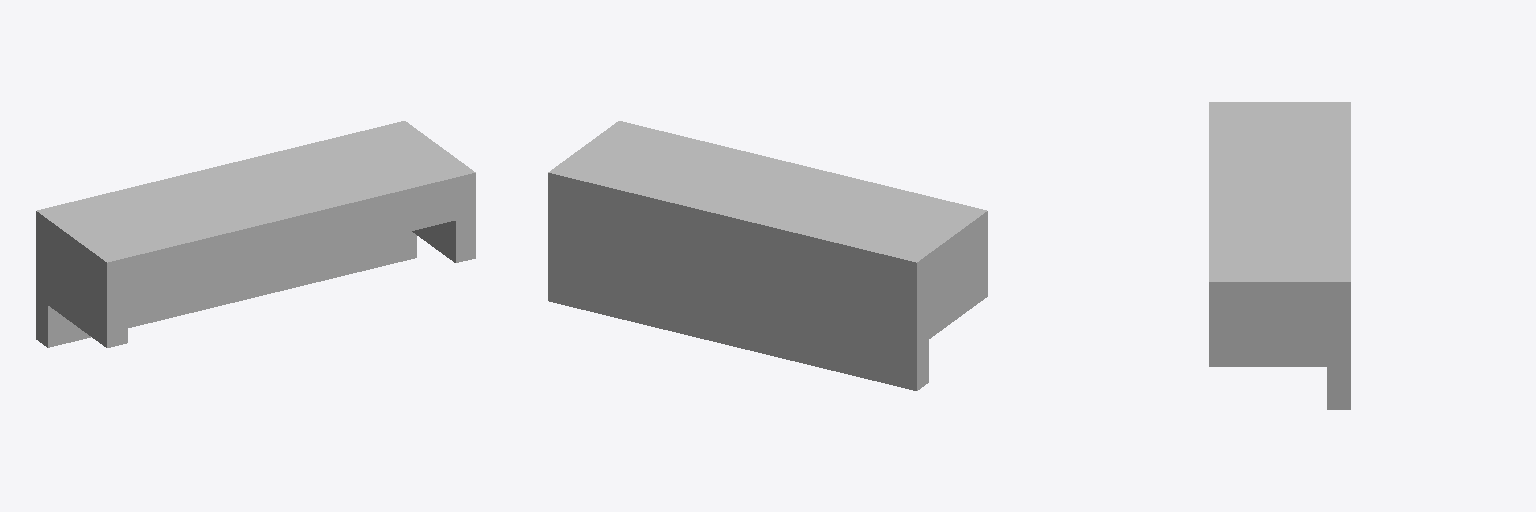
Rendered from couch21.obj.
3 renders of one model, left to right at view 1: azimuth 30°, elevation 25°; view 2: azimuth 150°, elevation 25°; view 3: azimuth 270°, elevation 25°, orthographic.
Visible parts, largest first — view 1: Cube.001_Cube.005; view 2: Cube.001_Cube.005; view 3: Cube.001_Cube.005.
Part boxes in pixels (left/top/right/bottom): Cube.001_Cube.005: left=36, top=121, right=475, bottom=347; Cube.001_Cube.005: left=548, top=121, right=987, bottom=390; Cube.001_Cube.005: left=1209, top=102, right=1350, bottom=409.
Bounding box in the file's own units: 18 × 6 × 6.